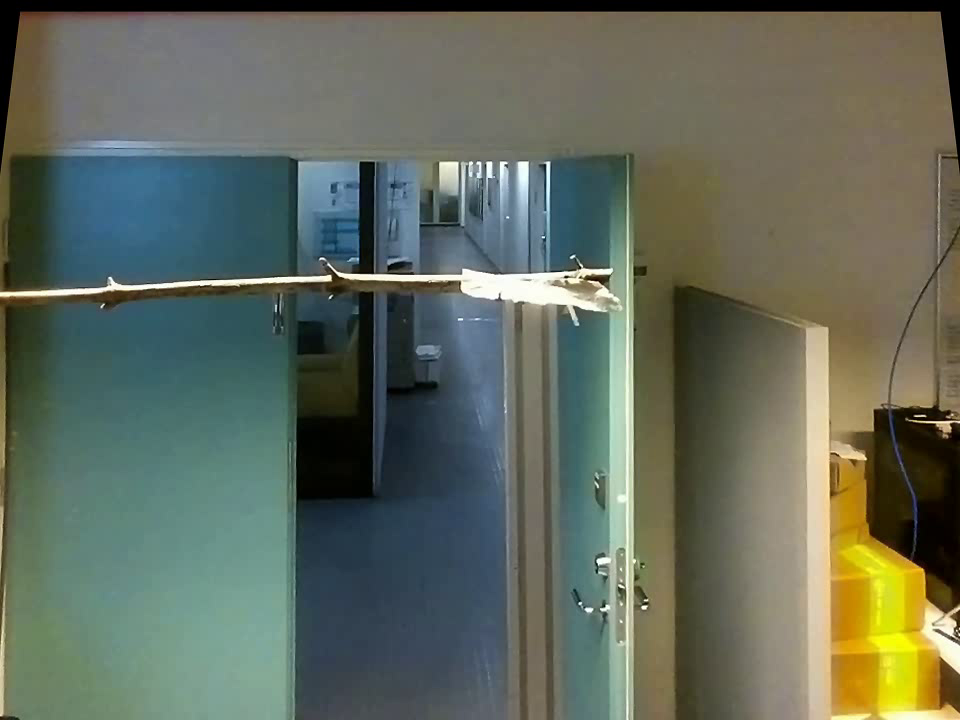aluminum_frame: (497, 299, 567, 717)
branch: (2, 242, 459, 322)
